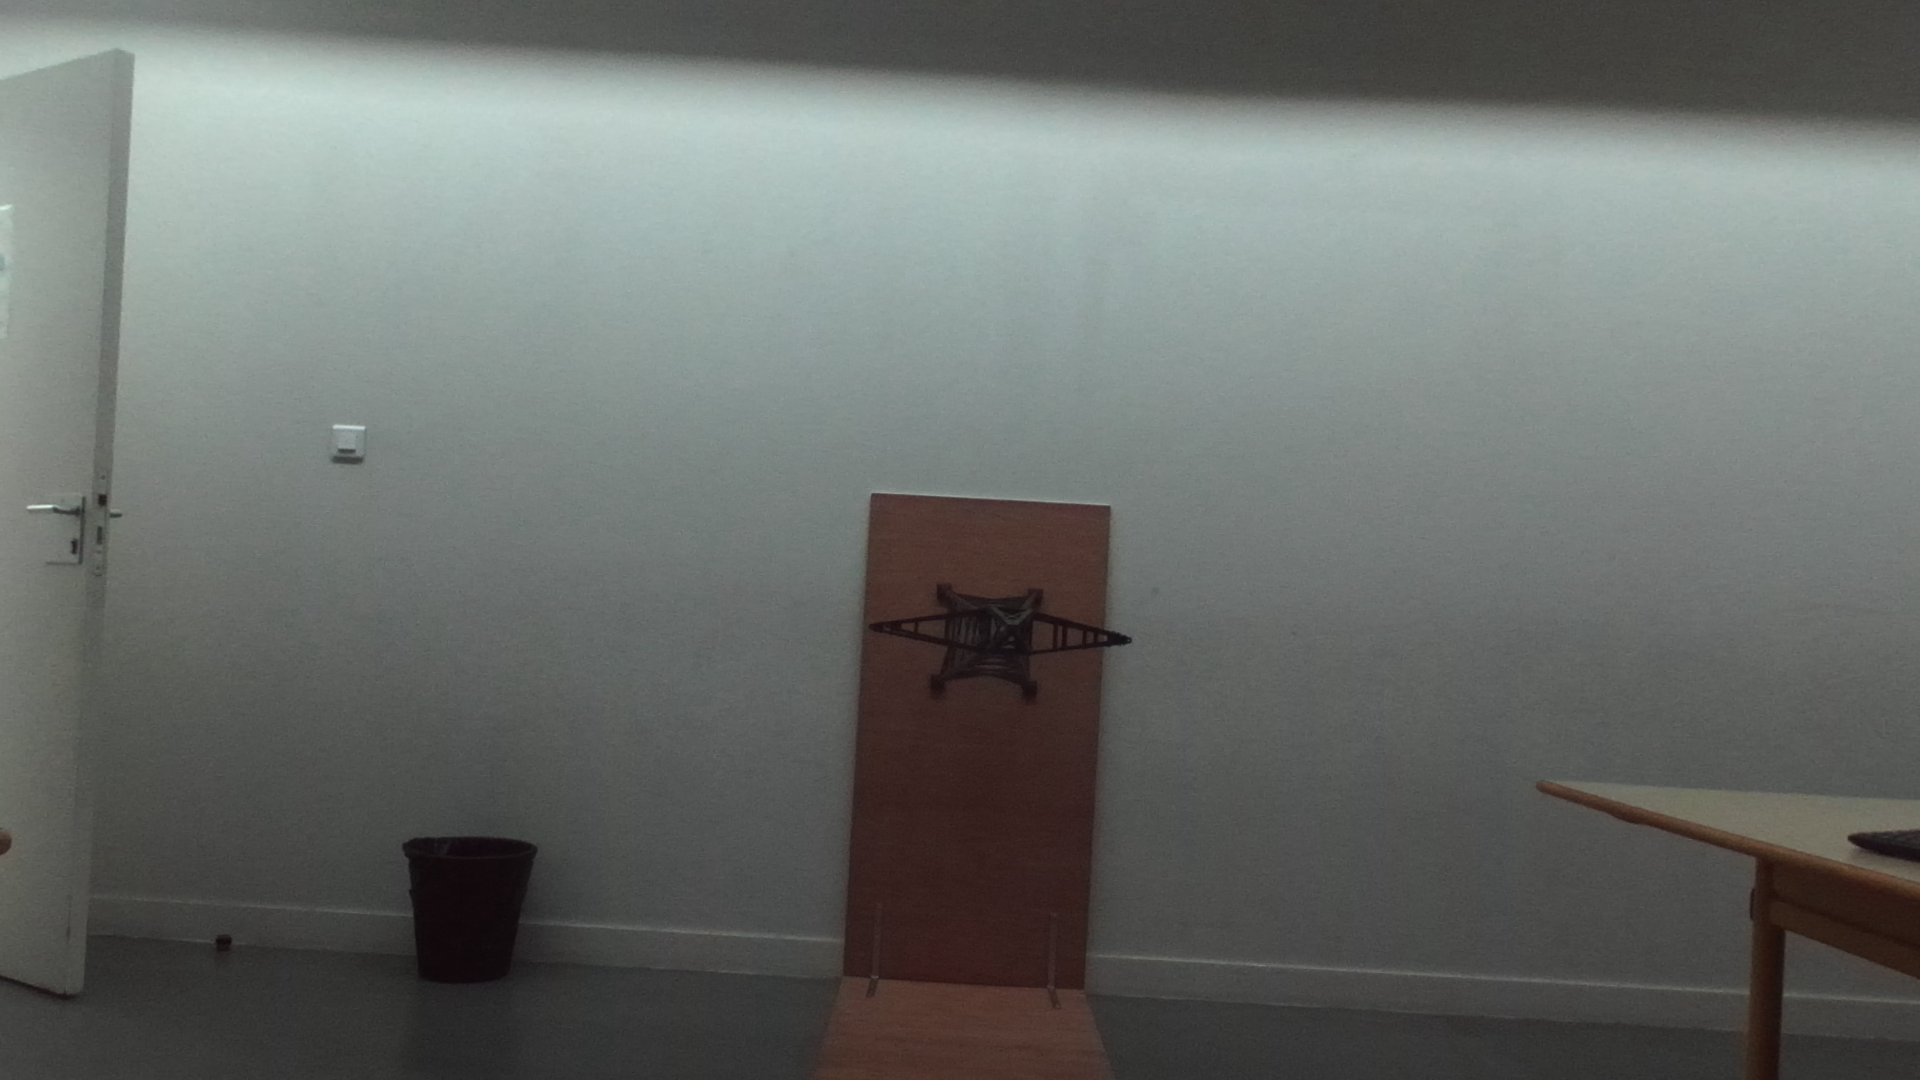pylon_phy: (880, 607, 1135, 655)
